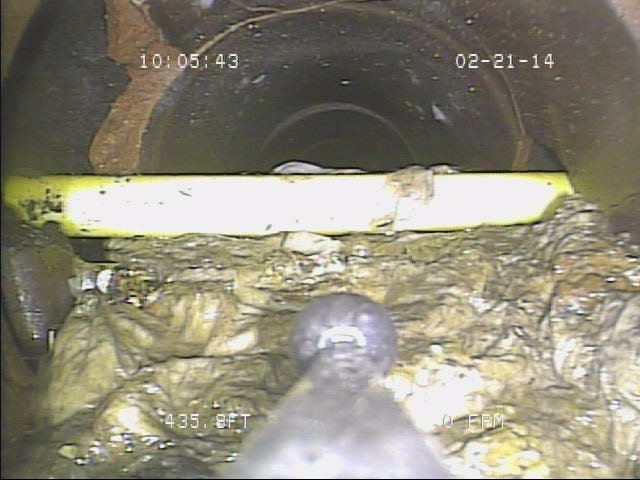cb: (8, 144, 592, 239)
